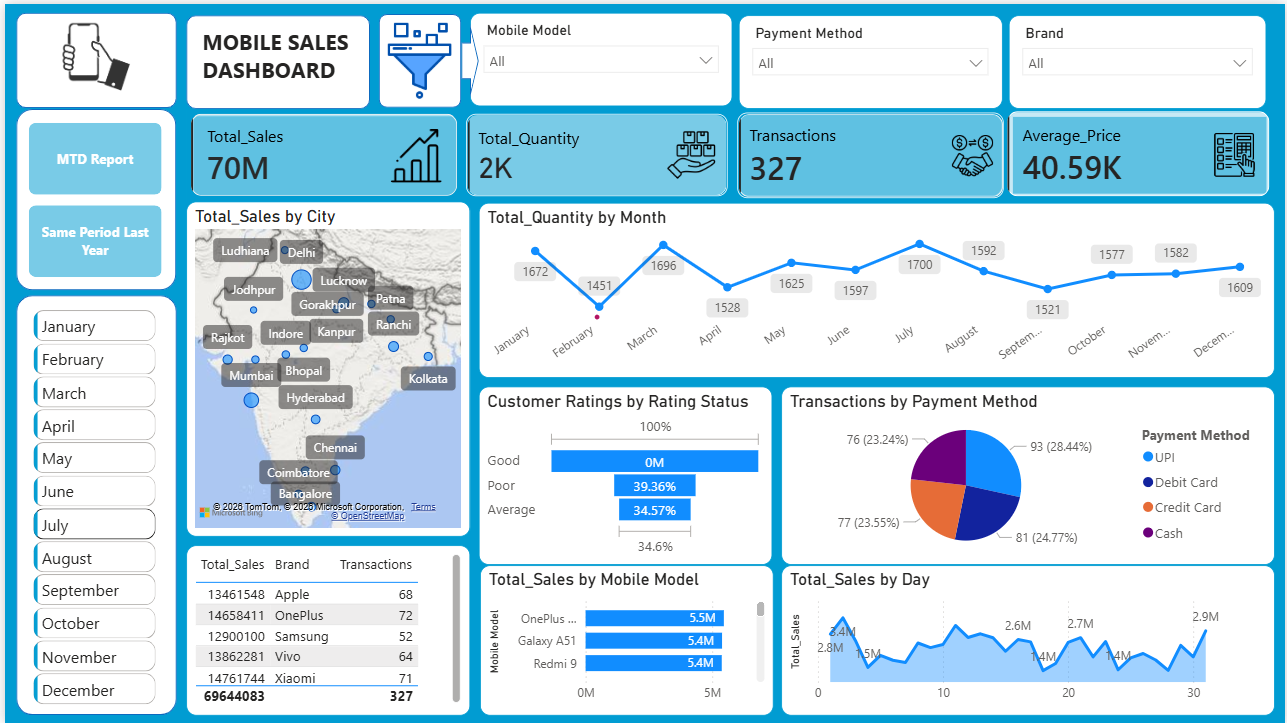

This screenshot's page, from the dashboard's own definition file:
{"tool":"powerbi","page":{"name":"Dashboard","canvas":[1280,720],"ordinal":0},"visuals":[{"type":"shape","box":[10.9,8.4,160.5,95.3],"z":0},{"type":"shape","box":[11.2,105,160,181.2],"z":1000},{"type":"image","box":[29,9.7,125.5,85.7],"z":2000},{"type":"shape","box":[10.9,290.8,160.5,419.8],"z":3000},{"type":"listSlicer","fields":{"Values":["Custom_Calender.Date.Variation.Date Hierarchy.Month"]},"box":[23.8,301.2,145,410],"z":4000},{"type":"cardVisual","fields":{"Data":["Sales_Data.Total_Sales"]},"box":[181.2,105,276.2,92.5],"z":5000},{"type":"cardVisual","fields":{"Data":["Sales_Data.Total_Quantity"]},"box":[456.2,105,271.2,92.5],"z":6000},{"type":"cardVisual","fields":{"Data":["Sales_Data.Transactions"]},"box":[727.5,103.8,276.2,95],"z":7000},{"type":"cardVisual","fields":{"Data":["Sales_Data.Average_Price"]},"box":[997.5,102.5,272.5,95],"z":8000},{"type":"slicer","fields":{"Values":["Sales_Data.Mobile Model"]},"box":[465,8.8,262.5,93.8],"z":9000},{"type":"slicer","fields":{"Values":["Sales_Data.Payment Method"]},"box":[733.8,11.2,263.8,93.8],"z":10000},{"type":"slicer","fields":{"Values":["Sales_Data.Brand"]},"box":[1003.8,11.2,257.5,93.8],"z":11000},{"type":"shape","box":[373.8,10,82.5,93.8],"z":12000},{"type":"image","box":[374,18.1,82,78.4],"z":13000},{"type":"shape","box":[456.2,20,17.5,73.8],"z":14000},{"type":"shape","box":[181.2,11.2,183.8,93.8],"z":15000},{"type":"textbox","box":[193,18.1,160.5,78.4],"z":16000},{"type":"map","fields":{"Category":["Sales_Data.City"],"Size":["Sales_Data.Total_Sales"]},"box":[181.2,197.5,283.8,335],"z":17000},{"type":"lineChart","fields":{"Category":["Custom_Calender.Date.Variation.Date Hierarchy.Month"],"Y":["Sales_Data.Total_Quantity"]},"box":[474,199,796,175],"z":18000},{"type":"funnel","title":"Customer Ratings by Rating Status","fields":{"Category":["Sales_Data.Rating Status"],"Y":["CountNonNull(Sales_Data.Customer Ratings)"]},"box":[473.8,382.5,293.8,178.8],"z":19000},{"type":"pieChart","fields":{"Y":["Sales_Data.Transactions"],"Category":["Sales_Data.Payment Method"]},"box":[776.2,382.5,493.8,178.8],"z":20000},{"type":"clusteredBarChart","fields":{"Y":["Sales_Data.Total_Sales"],"Category":["Sales_Data.Mobile Model"]},"box":[475,561.2,293.8,150],"z":21000},{"type":"areaChart","fields":{"Category":["Custom_Calender.Date.Variation.Date Hierarchy.Day"],"Y":["Sales_Data.Total_Sales"]},"box":[776.2,561.2,493.8,150],"z":22000},{"type":"tableEx","fields":{"Values":["Sales_Data.Total_Sales","Sales_Data.Brand","Sales_Data.Transactions"]},"box":[181.2,541.2,283.8,170],"z":23000},{"type":"pageNavigator","box":[23.8,118.8,133.8,155],"z":24000}]}

Visuals, with their boxes in screenshot pixels (x1, y1, x2, y2), scaled from the page's 1280x720 canvas onto the 1287x723 screenshot:
shape: 11, 8, 172, 104
shape: 11, 105, 172, 287
image: 29, 10, 155, 96
shape: 11, 292, 172, 714
listSlicer - Custom_Calender.Date.Variation.Date Hierarchy.Month: 24, 302, 170, 714
cardVisual - Sales_Data.Total_Sales: 182, 105, 460, 198
cardVisual - Sales_Data.Total_Quantity: 459, 105, 731, 198
cardVisual - Sales_Data.Transactions: 731, 104, 1009, 200
cardVisual - Sales_Data.Average_Price: 1003, 103, 1277, 198
slicer - Sales_Data.Mobile Model: 468, 9, 731, 103
slicer - Sales_Data.Payment Method: 738, 11, 1003, 105
slicer - Sales_Data.Brand: 1009, 11, 1268, 105
shape: 376, 10, 459, 104
image: 376, 18, 458, 97
shape: 459, 20, 476, 94
shape: 182, 11, 367, 105
textbox: 194, 18, 355, 97
map - Sales_Data.City x Sales_Data.Total_Sales: 182, 198, 468, 535
lineChart - Custom_Calender.Date.Variation.Date Hierarchy.Month x Sales_Data.Total_Quantity: 477, 200, 1277, 376
"Customer Ratings by Rating Status" funnel: 476, 384, 772, 564
pieChart - Sales_Data.Transactions x Sales_Data.Payment Method: 780, 384, 1277, 564
clusteredBarChart - Sales_Data.Total_Sales x Sales_Data.Mobile Model: 478, 564, 773, 714
areaChart - Custom_Calender.Date.Variation.Date Hierarchy.Day x Sales_Data.Total_Sales: 780, 564, 1277, 714
tableEx - Sales_Data.Total_Sales x Sales_Data.Brand: 182, 543, 468, 714
pageNavigator: 24, 119, 158, 275
